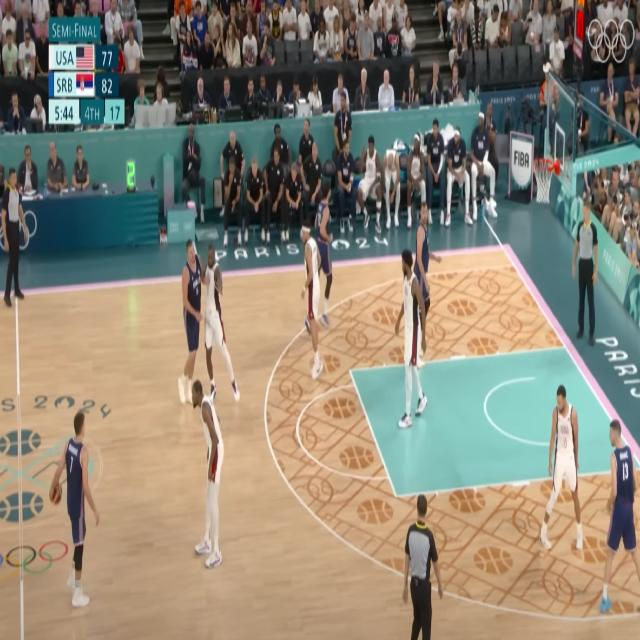basketball: (51, 484, 62, 504)
hoop: (532, 157, 556, 206)
